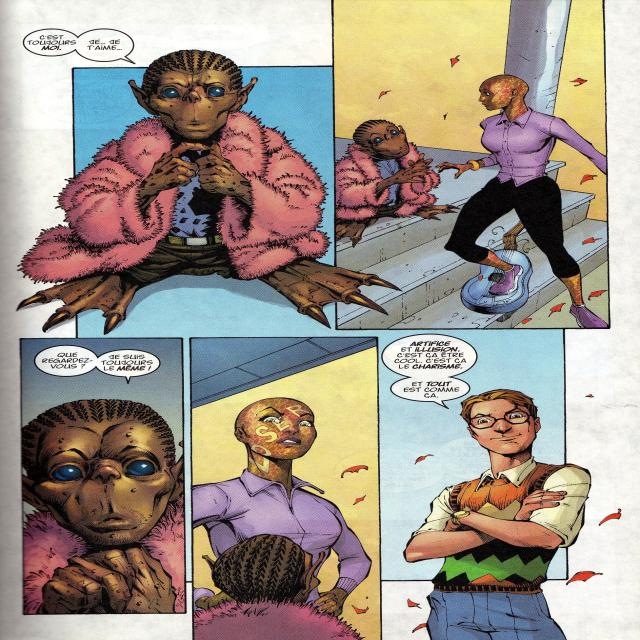comic_panel: (0, 21, 405, 339), (332, 0, 612, 331), (375, 328, 640, 640), (189, 337, 384, 640), (20, 337, 187, 615)
